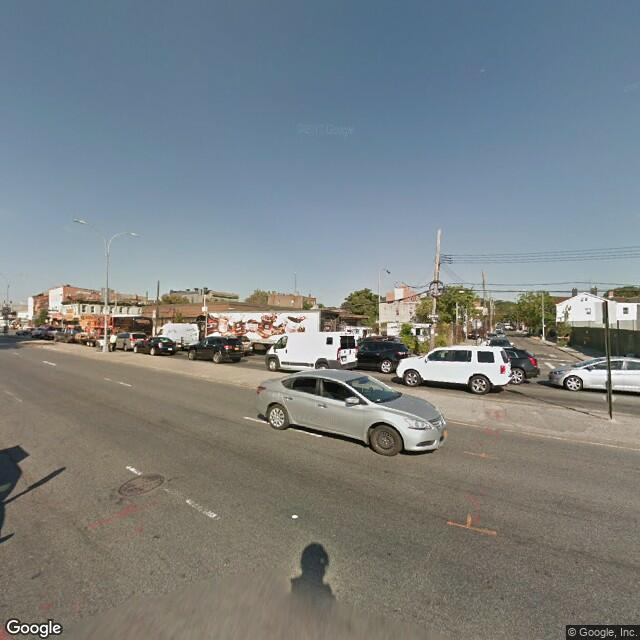litter: (290, 512, 299, 520)
